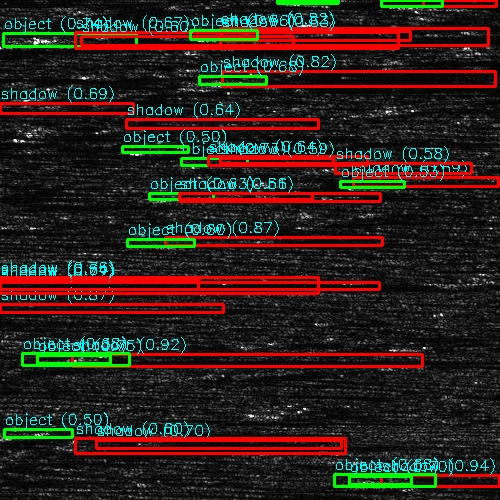rock: (144, 73, 279, 86), (34, 355, 97, 366), (28, 440, 91, 451), (192, 31, 285, 38), (121, 238, 204, 245), (1, 429, 54, 438), (170, 159, 253, 164), (120, 146, 173, 151), (278, 0, 341, 3), (0, 457, 10, 462)
shadow: (0, 279, 401, 290), (66, 355, 453, 366), (60, 440, 369, 451), (212, 73, 462, 86), (28, 429, 335, 438), (0, 303, 255, 312), (163, 238, 402, 245), (0, 316, 151, 325), (0, 107, 173, 114), (147, 146, 386, 151), (0, 179, 49, 200), (0, 457, 132, 462), (239, 31, 324, 38), (212, 159, 293, 164), (310, 0, 395, 3)
